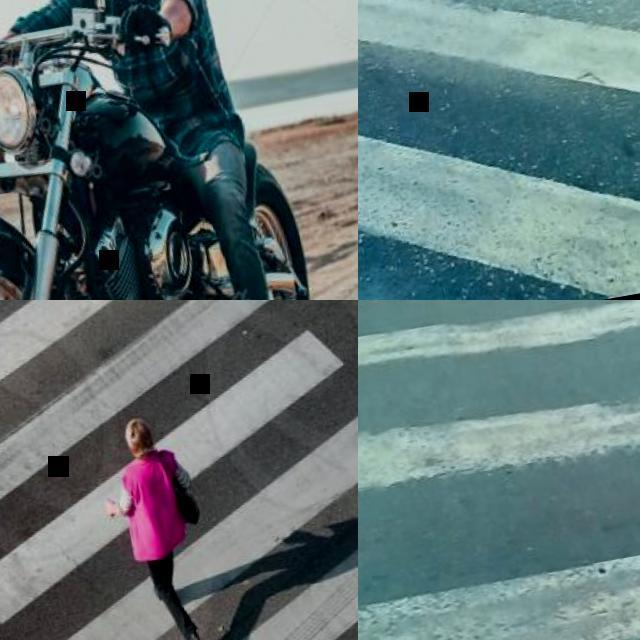car: (2, 0, 310, 298)
